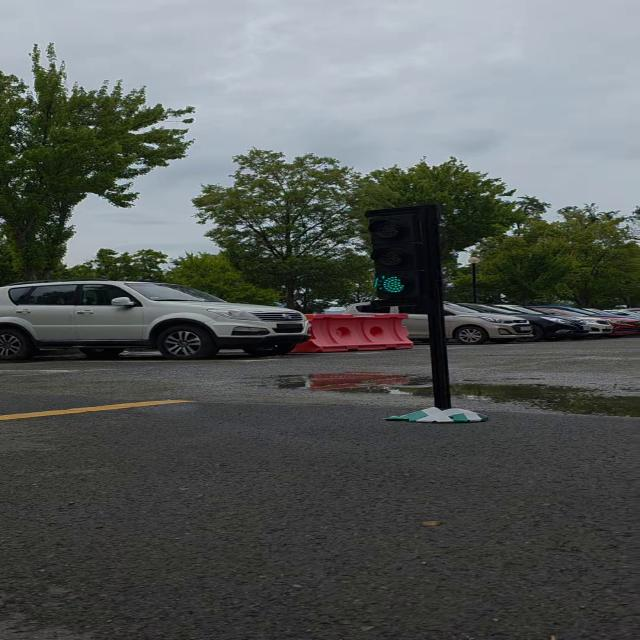green: (368, 206, 442, 306)
